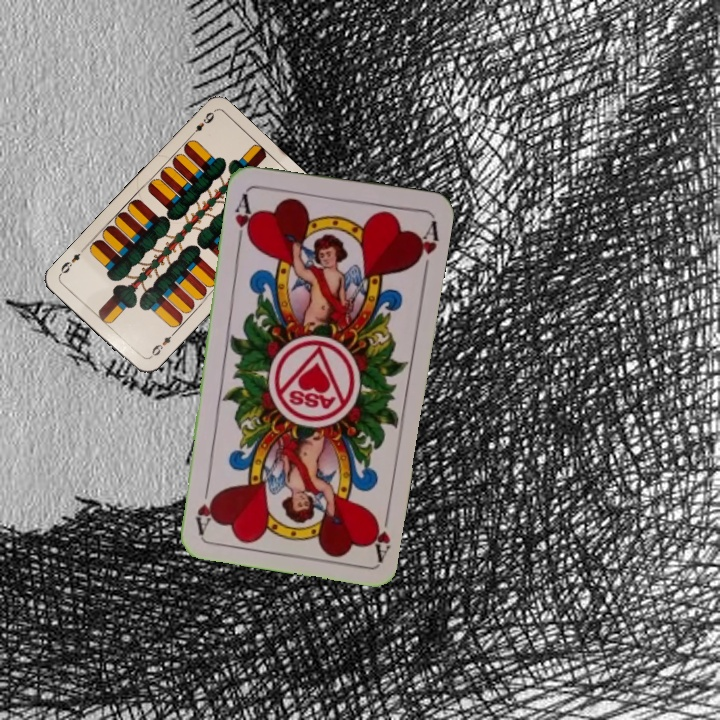E9: (145, 328, 177, 361), (185, 108, 217, 140)
HA: (365, 503, 393, 562), (231, 186, 258, 245)
